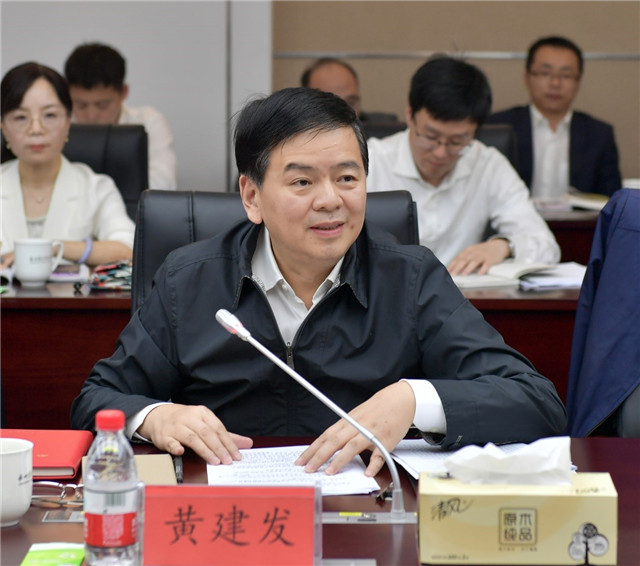noWear: (268, 142, 368, 265), (416, 114, 471, 180), (10, 106, 68, 168), (532, 54, 578, 117), (70, 77, 129, 125)
